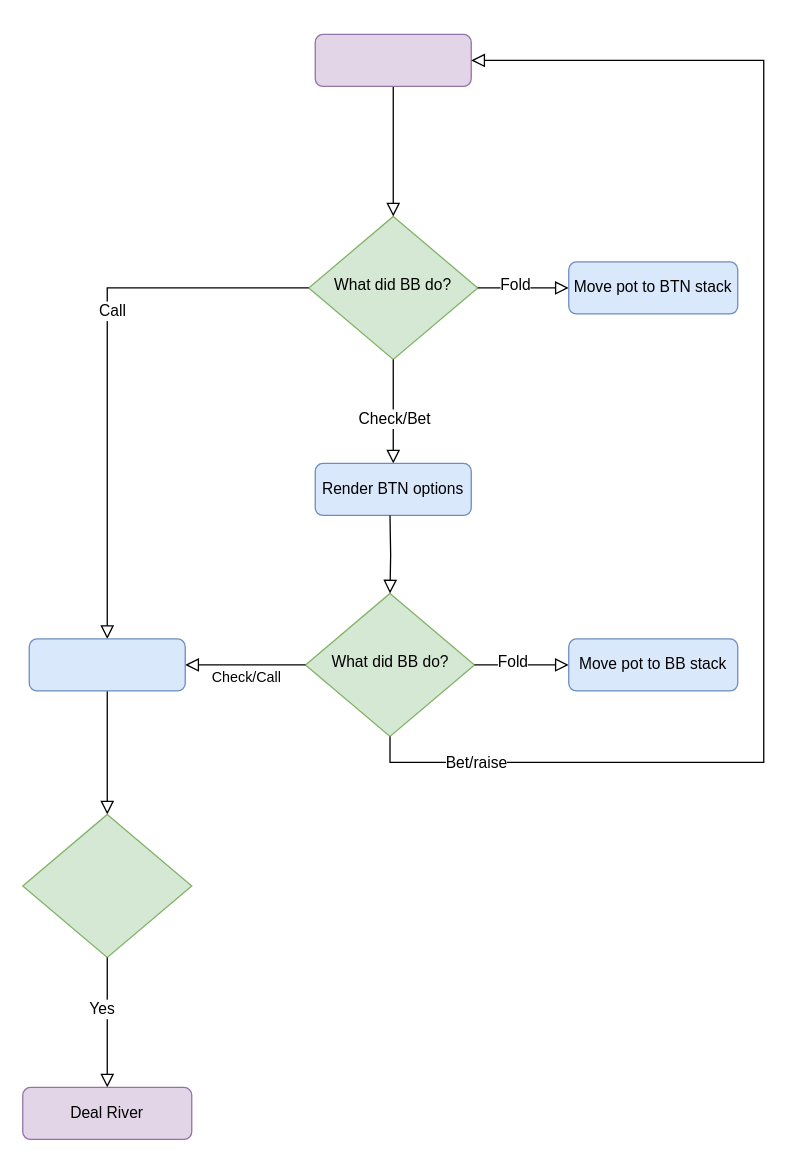
This 800x1162 diagram has some shape labels left out. Here are the shapes that lost their labels. From the top down, the centre of each, then its label:
At point 392,59: "Render BB options".
At point 106,664: "Deal turn".
At point 106,885: "Are players allin?".
